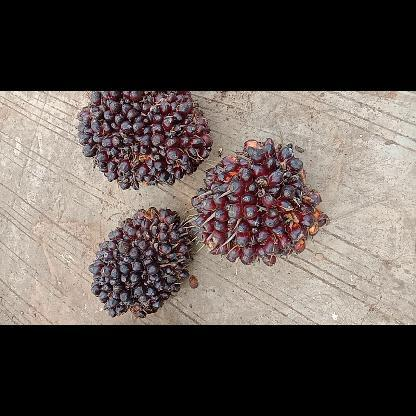TBS mentah: (185, 136, 331, 268), (74, 91, 216, 193), (86, 204, 195, 320)
